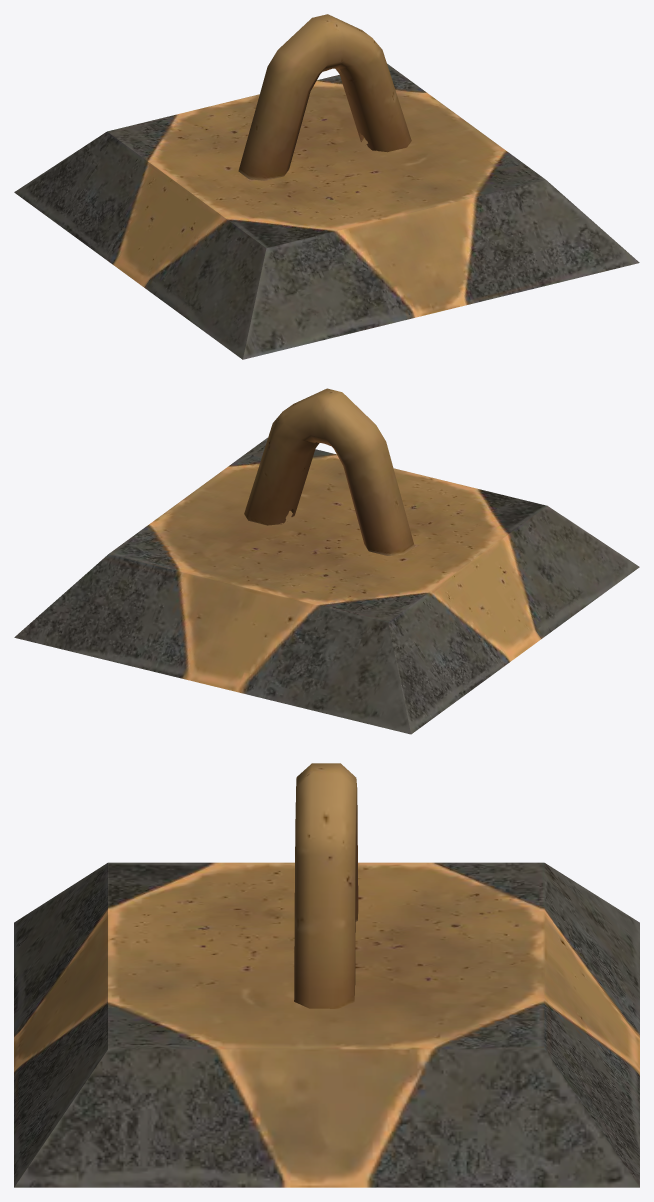
3 renders of one model, top to bottom at view 1: azimuth 30°, elevation 25°; view 2: azimuth 150°, elevation 25°; view 3: azimuth 270°, elevation 25°, orthographic. The views are drawn at different scales.
Visible parts, largest first — view 1: SM_Dragonkin_Chain_Cage_Top_01_LOD0; view 2: SM_Dragonkin_Chain_Cage_Top_01_LOD0; view 3: SM_Dragonkin_Chain_Cage_Top_01_LOD0.
Part boxes in pixels (x1=…): SM_Dragonkin_Chain_Cage_Top_01_LOD0: x1=14, y1=14, x2=639, y2=359; SM_Dragonkin_Chain_Cage_Top_01_LOD0: x1=14, y1=388, x2=639, y2=734; SM_Dragonkin_Chain_Cage_Top_01_LOD0: x1=14, y1=763, x2=639, y2=1187.
Bounding box in the file's own units: 0.9754 × 0.4894 × 0.9734.
Materials: 1 (1 with a texture image).
